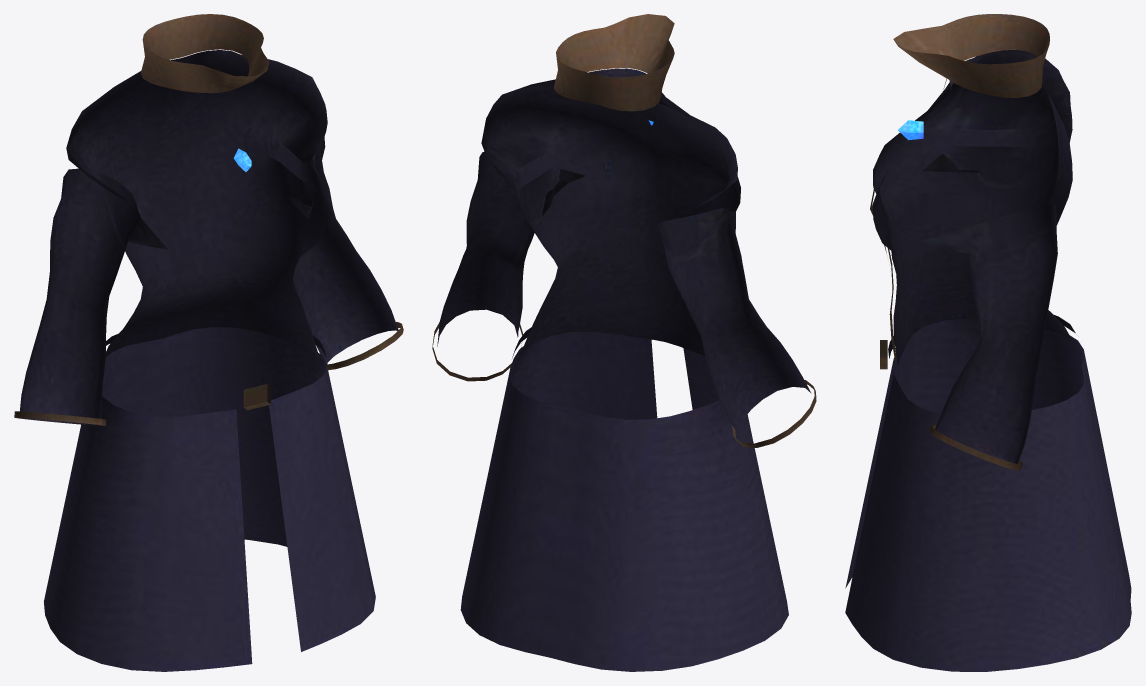
The model's file is Peitoral_de_Tecido_Arcano_nivel50.glb.
3 renders of one model, left to right at view 1: azimuth 30°, elevation 25°; view 2: azimuth 150°, elevation 25°; view 3: azimuth 270°, elevation 25°, orthographic.
Visible parts, largest first — view 1: peitoral_de_tecido_arcano_nivel50; view 2: peitoral_de_tecido_arcano_nivel50; view 3: peitoral_de_tecido_arcano_nivel50.
Part boxes in pixels (x1=…): peitoral_de_tecido_arcano_nivel50: x1=14, y1=14, x2=403, y2=671; peitoral_de_tecido_arcano_nivel50: x1=432, y1=14, x2=816, y2=671; peitoral_de_tecido_arcano_nivel50: x1=845, y1=14, x2=1131, y2=671.
Bounding box in the file's own units: 0.7031 × 1.01 × 0.465.
Materials: 1 (1 with a texture image).
